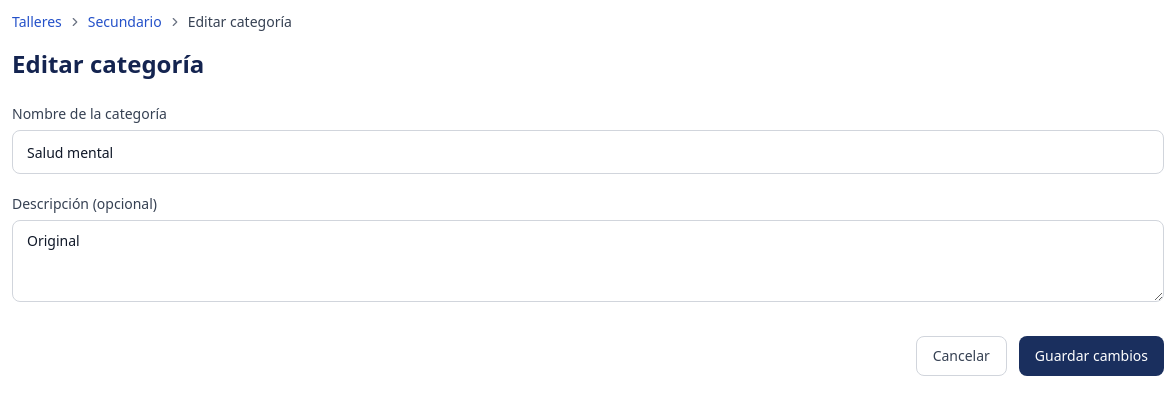
Test case: CategoriaFormPage: edición › con el nombre repetido al editar muestra el mensaje de duplicado
The width and height of the screenshot is (1176, 417).
Expected: the field labelled "Nombre de la categoría" holds "Salud mental", left=12, top=130, right=1164, bottom=174
What coordinates should you click on to do the following:
click the button "Guardar cambios"
I would click on:
 (1091, 356)
Its box is left=1019, top=336, right=1164, bottom=376.
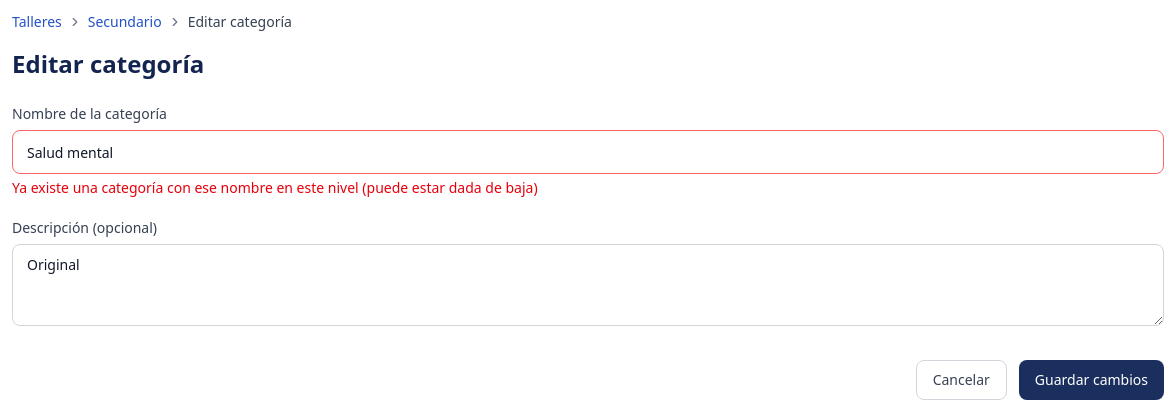
Expected: the text "Ya existe una categoría con ese nombre en este nivel (puede estar dada de baja)" is shown, left=12, top=178, right=538, bottom=197
